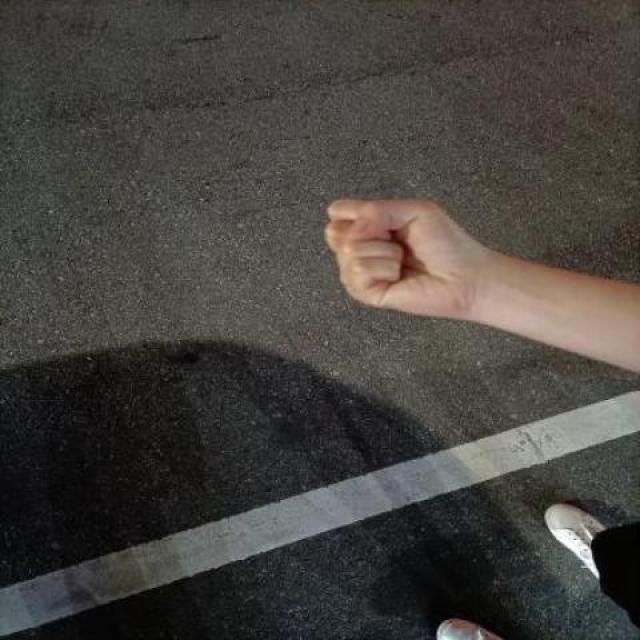Closed Hand: (318, 192, 507, 347)
